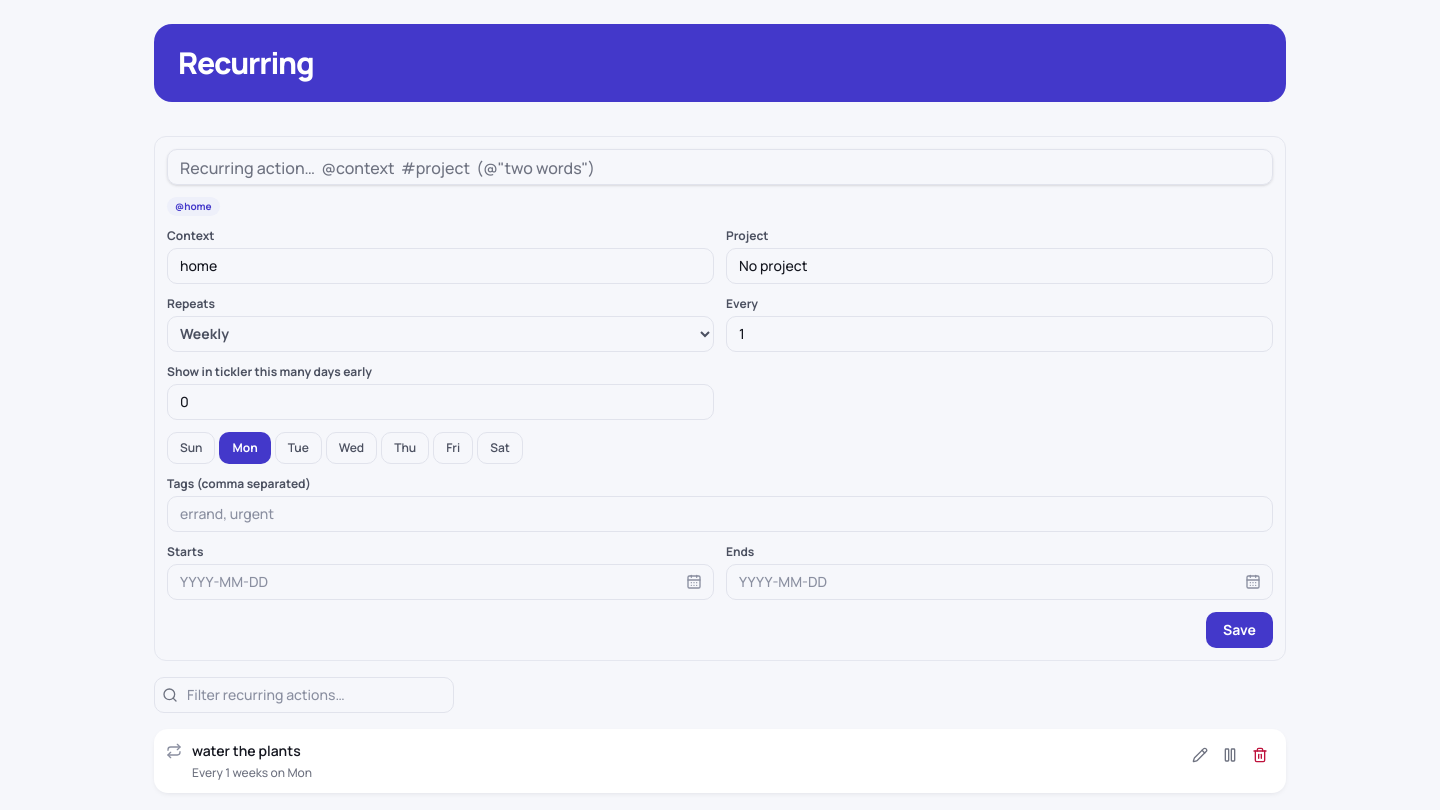
Test case: where the editor opens › opens as a full-screen form on a phone, from the same pencil
The image size is (1440, 810).
Expected: the text "water the plants" is shown, [192,741,301,760]
Click the button named "Edit this recurrence" at (1200, 755), box [1186,741,1214,769]
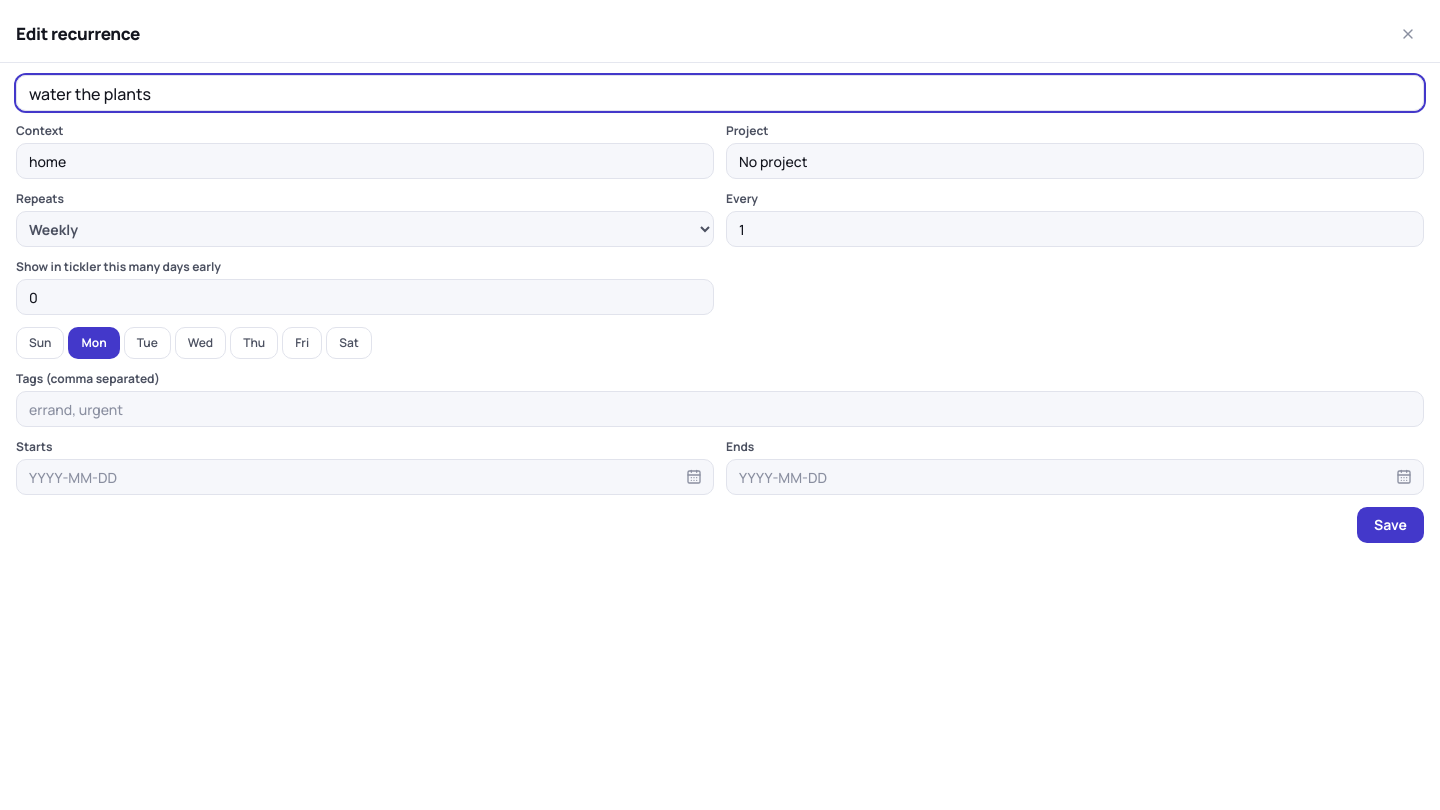
Result: the dialog is shown
